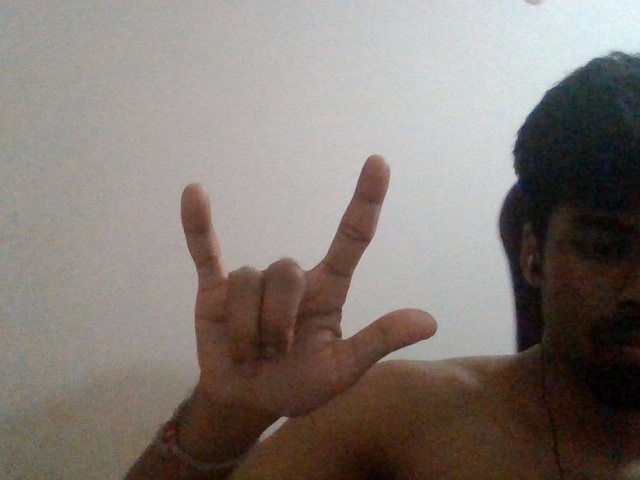ILoveYou: (173, 151, 439, 436)
